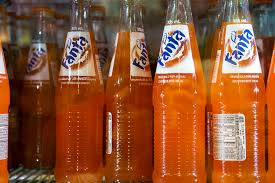fanta: (209, 18, 269, 181), (152, 22, 207, 180), (59, 12, 103, 181), (105, 20, 151, 180), (25, 44, 53, 167), (1, 78, 10, 179)
